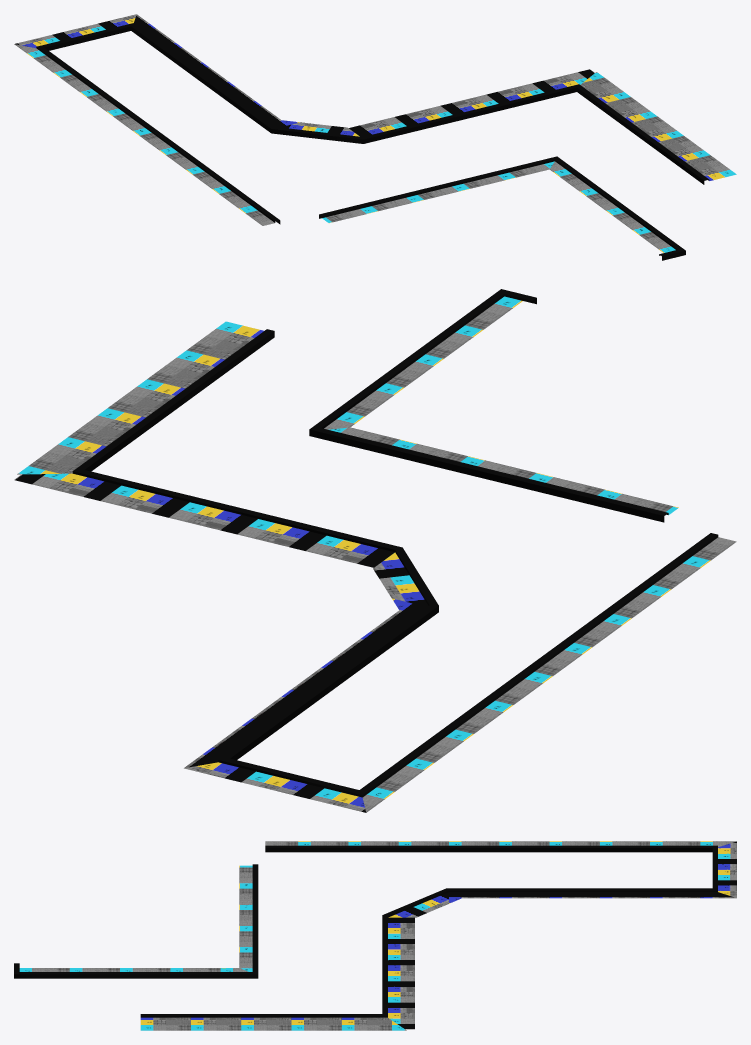
The model's file is downtown_alley_sidewalk.fbx.
3 renders of one model, top to bottom at view 1: azimuth 30°, elevation 25°; view 2: azimuth 150°, elevation 25°; view 3: azimuth 270°, elevation 25°, orthographic. The views are drawn at different scales.
Visible parts, largest first — view 1: downtown_alley_sidewalk; view 2: downtown_alley_sidewalk; view 3: downtown_alley_sidewalk.
Part boxes in pixels (<box>): downtown_alley_sidewalk: <box>14,14,736,260</box>; downtown_alley_sidewalk: <box>14,289,736,812</box>; downtown_alley_sidewalk: <box>14,841,736,1030</box>.
Bounding box in the file's own units: 1451 × 15 × 2345.
